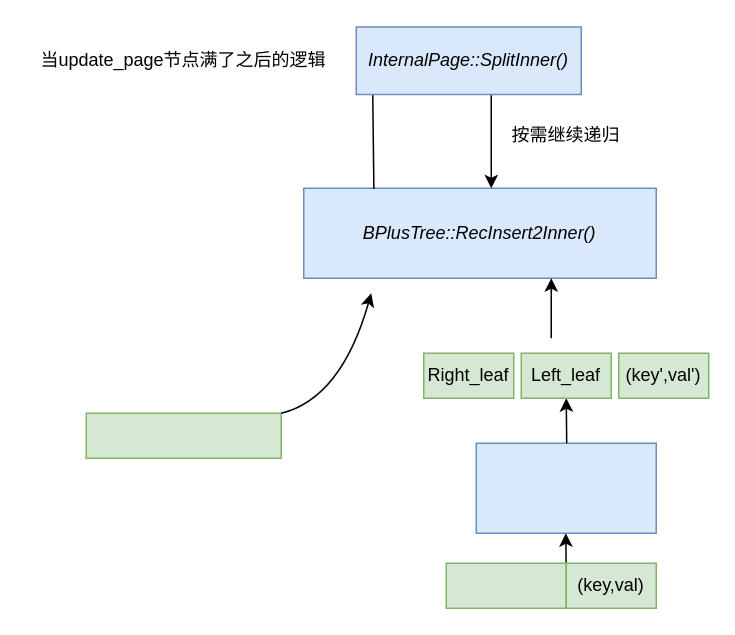
Image size: 735x635. Some labels were removed from this diagram. The shapes that lost their labels are listed below. From the top down, each one's centre as x and y in pixels, then its label:
At (183,435): "parent_guard update_guard的父节点".
At (565,487): "LeafPage::SplitLeaf()".
At (505,585): "update_guard".
